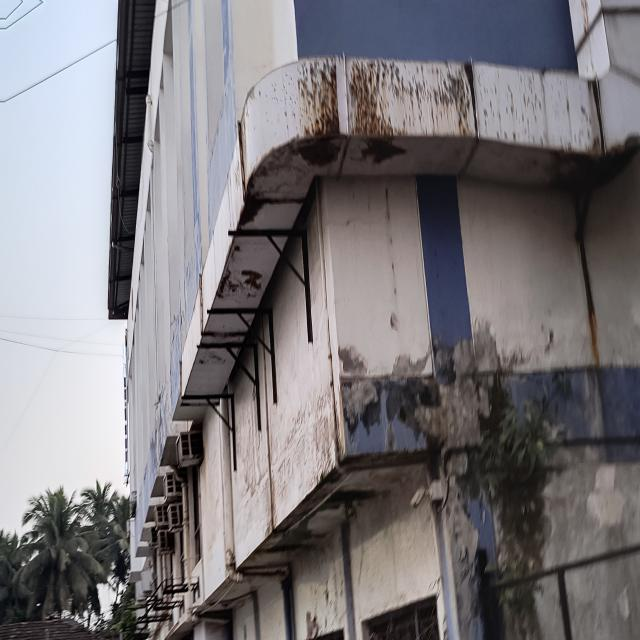Corrosion: (162, 42, 627, 416)
Moss growth due to damping: (306, 316, 618, 640), (357, 461, 452, 630)
